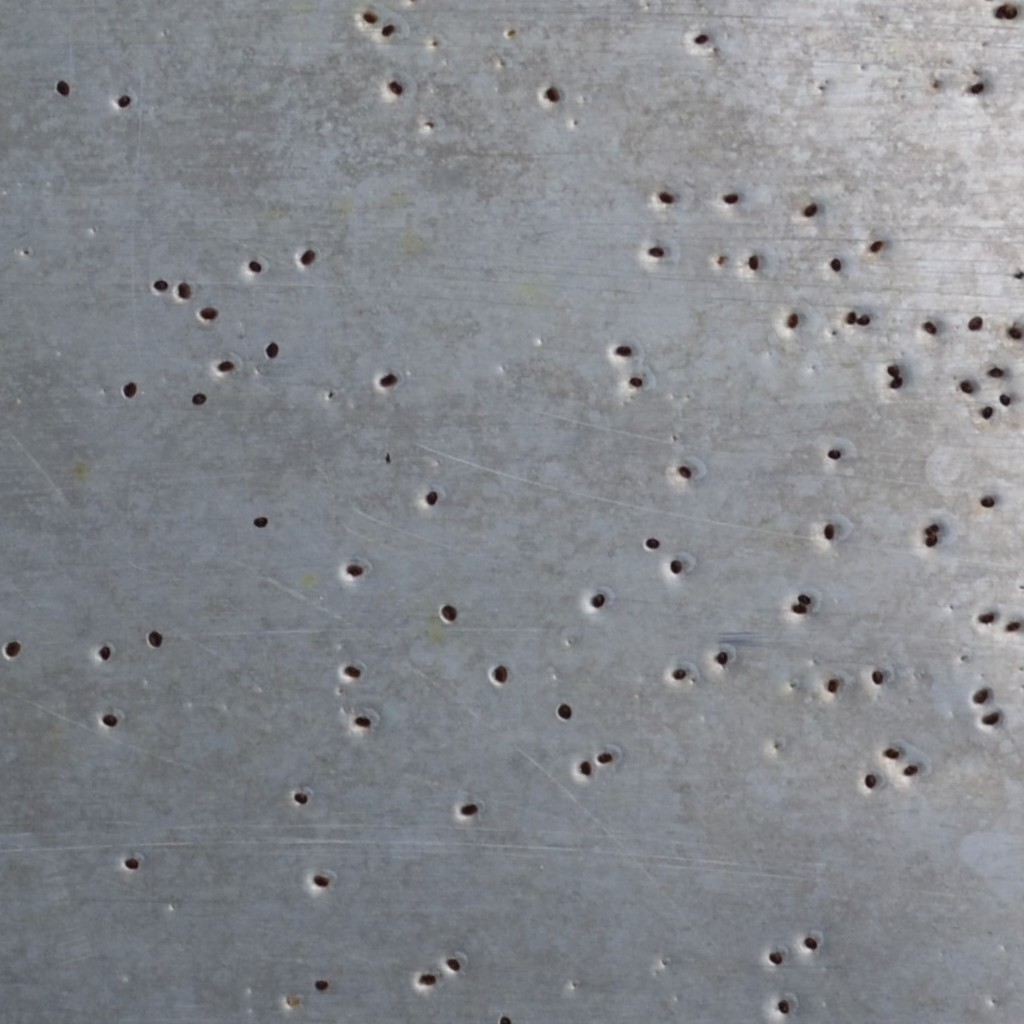varroa: (119, 379, 141, 401), (980, 706, 1002, 727), (311, 868, 333, 889), (214, 357, 237, 377), (145, 627, 165, 650), (490, 663, 509, 686), (341, 661, 364, 680), (554, 701, 573, 723), (198, 302, 218, 322), (765, 947, 786, 966), (970, 686, 990, 705), (189, 388, 208, 408), (291, 788, 310, 808), (800, 200, 822, 217), (612, 342, 634, 359), (299, 245, 316, 267), (439, 603, 458, 622), (975, 609, 996, 626), (379, 369, 396, 390), (458, 800, 479, 817), (824, 445, 843, 463), (262, 340, 280, 359), (100, 712, 119, 730), (3, 640, 21, 659), (150, 277, 170, 294), (311, 976, 331, 993), (122, 854, 142, 871), (345, 562, 366, 578), (417, 972, 439, 987), (966, 314, 983, 333), (868, 237, 885, 256), (1003, 618, 1022, 635), (803, 933, 820, 952), (589, 591, 606, 610), (669, 555, 685, 575), (577, 758, 593, 778), (54, 78, 70, 98), (788, 602, 809, 617), (116, 91, 131, 112), (176, 279, 190, 301), (901, 761, 919, 778), (677, 462, 695, 479), (671, 665, 688, 683), (596, 749, 614, 766), (251, 513, 269, 530), (445, 957, 462, 975), (922, 318, 938, 337), (775, 997, 791, 1016), (822, 521, 838, 540), (98, 643, 114, 662), (885, 361, 902, 378), (379, 21, 396, 38), (245, 258, 262, 275), (691, 29, 709, 45), (958, 378, 974, 396), (722, 189, 740, 205), (998, 390, 1013, 409), (883, 744, 902, 759), (863, 771, 878, 790), (795, 591, 815, 605), (646, 244, 666, 258), (746, 252, 759, 273), (362, 8, 378, 25), (1003, 4, 1018, 22), (978, 494, 996, 509), (870, 668, 885, 686), (785, 310, 800, 328), (714, 646, 729, 664), (626, 375, 645, 389), (354, 714, 373, 728), (425, 486, 437, 508), (981, 402, 994, 422), (1007, 324, 1023, 340), (644, 535, 661, 550), (828, 255, 842, 273), (657, 189, 675, 203), (826, 676, 839, 695), (843, 309, 858, 325), (889, 375, 905, 390), (923, 534, 939, 549), (969, 81, 986, 95), (987, 365, 1005, 378), (856, 312, 871, 327), (494, 1012, 514, 1023), (994, 3, 1006, 19), (928, 523, 940, 535)
